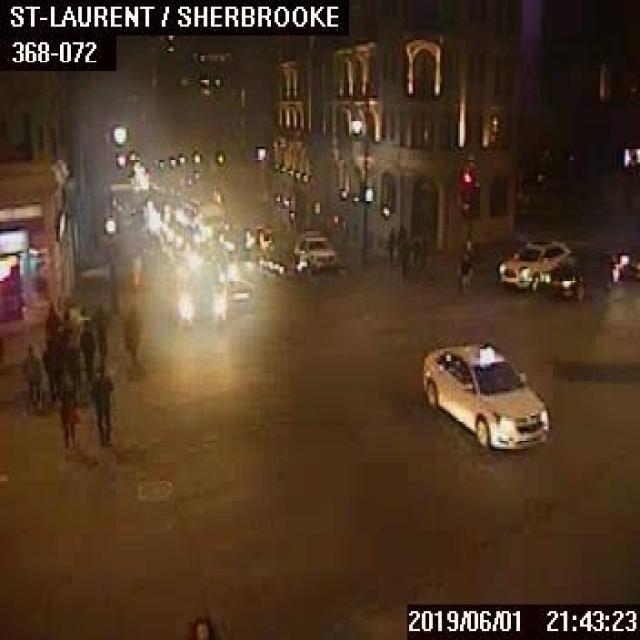construction: (129, 256, 140, 284)
pedestrian: (89, 366, 112, 442), (56, 377, 80, 446), (122, 304, 142, 374), (22, 344, 42, 408), (60, 328, 80, 391), (41, 338, 61, 401), (93, 306, 109, 364), (455, 252, 473, 298), (80, 318, 92, 375), (42, 299, 58, 338), (189, 618, 213, 638), (58, 308, 72, 339), (398, 234, 407, 282), (386, 224, 394, 266), (410, 236, 418, 264)
vehicle: (418, 340, 551, 451), (542, 246, 625, 298), (496, 239, 570, 289), (178, 261, 225, 323), (293, 232, 335, 274)
